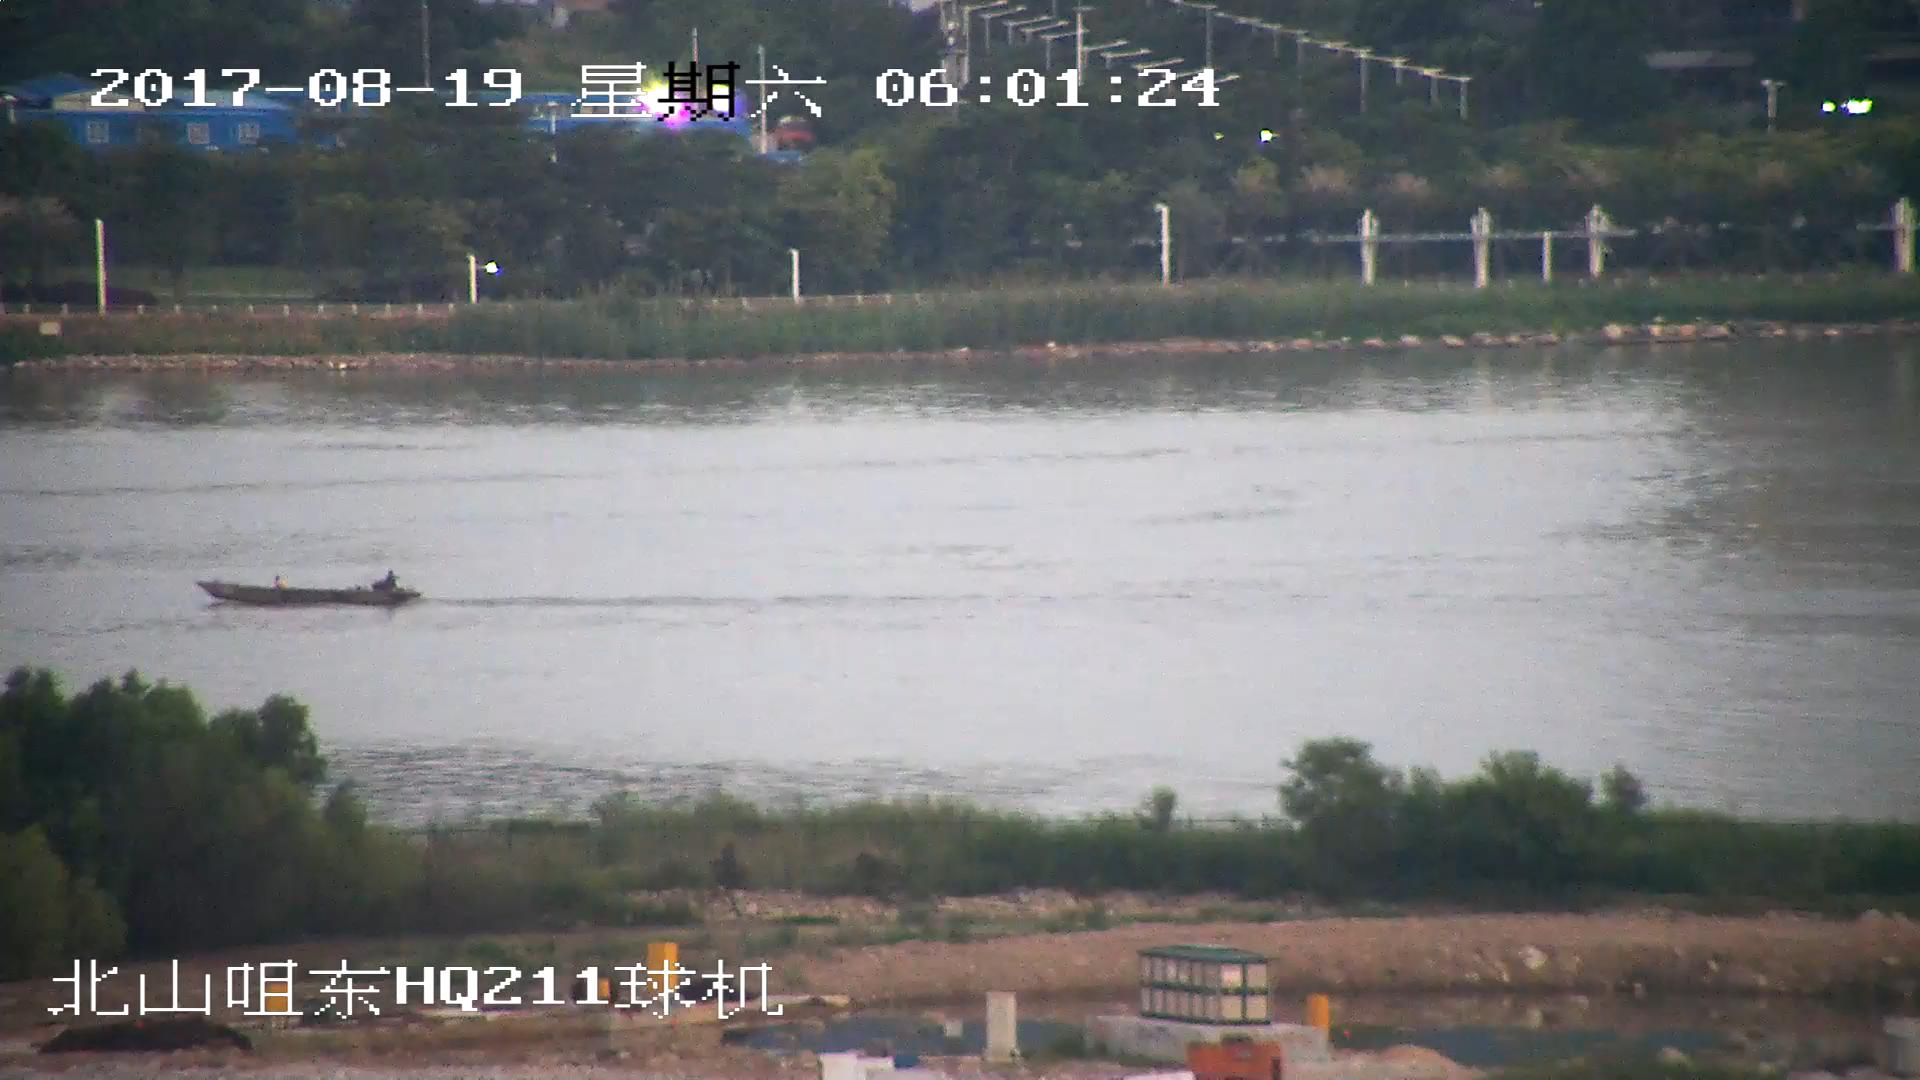fishing boat: (202, 569, 412, 610)
